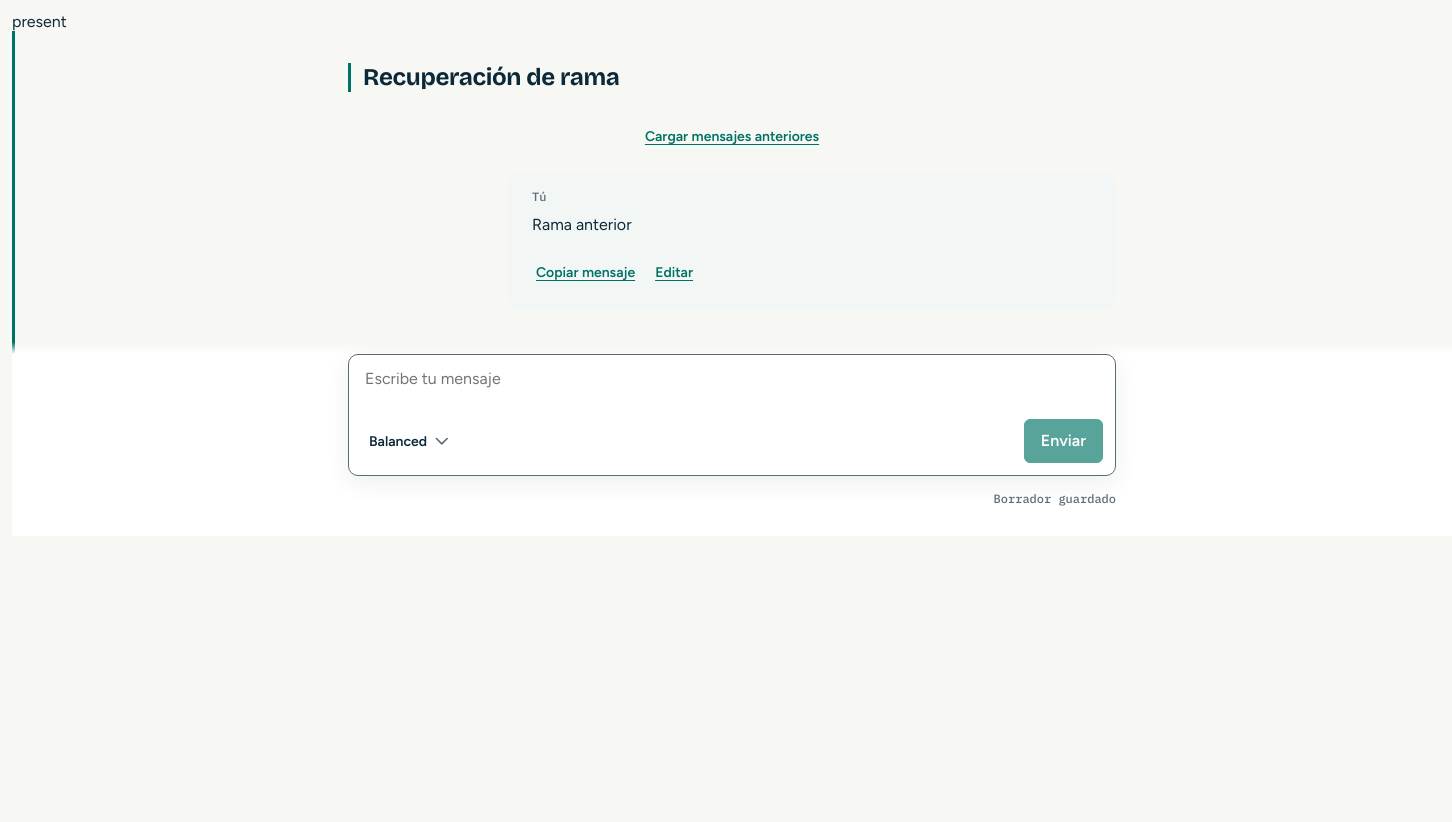
conversation page › repositions after same-size cursor recovery succeeds on Retry
The width and height of the screenshot is (1452, 822).
expect the text "Rama anterior" is shown: met, box [532,215,632,234]
expect the element with class "message-scroll" is shown: met, box [348,63,1116,310]
What coordinates should you click on to do the following:
click the button "Cargar mensajes anteriores"
I would click on:
 (732, 136)
Its box is [641,124,823,149].
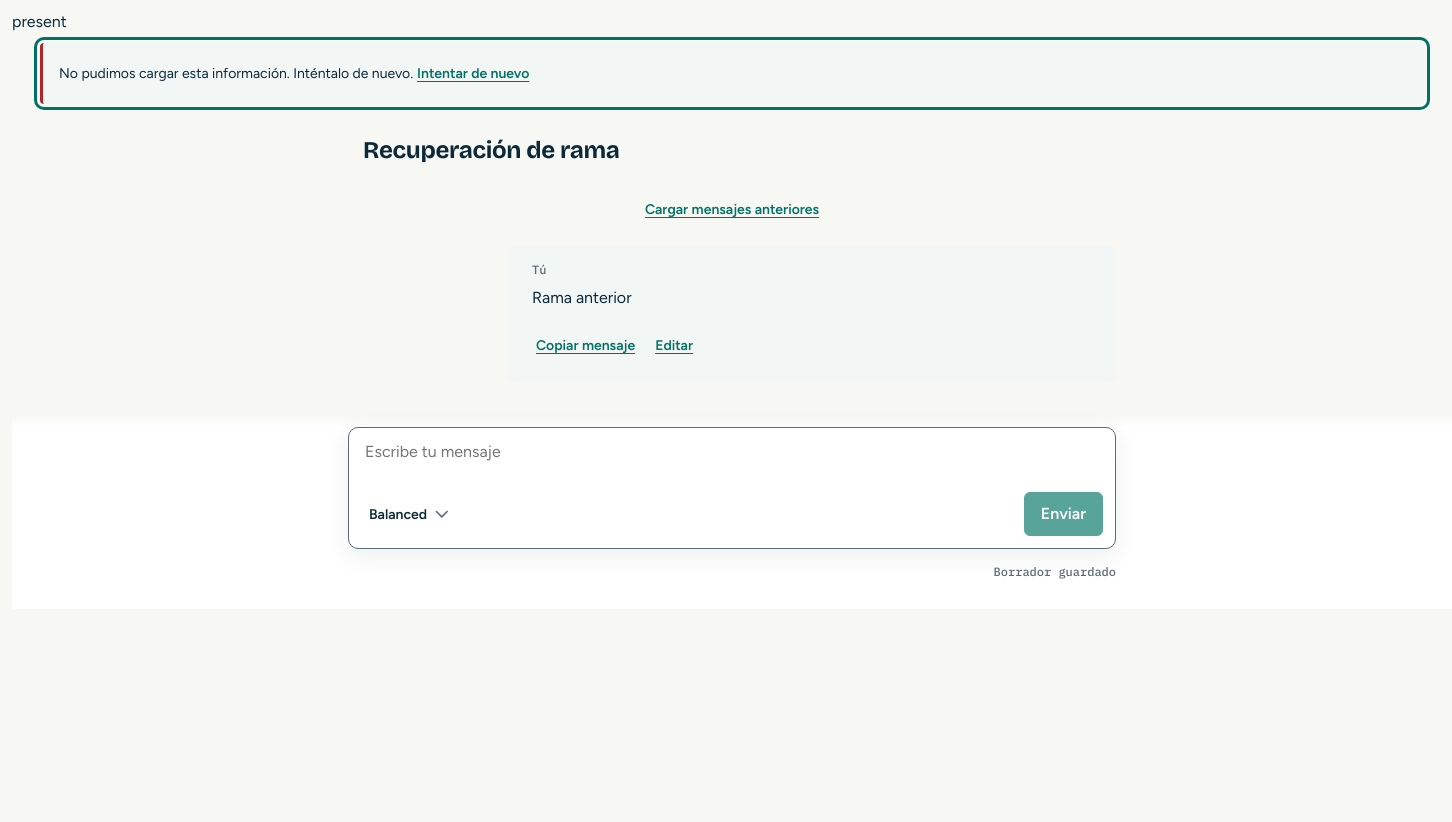
What coordinates should you click on to do the following:
click the button "Intentar de nuevo"
I would click on:
 (473, 74)
Its box is [413,59,533,88].
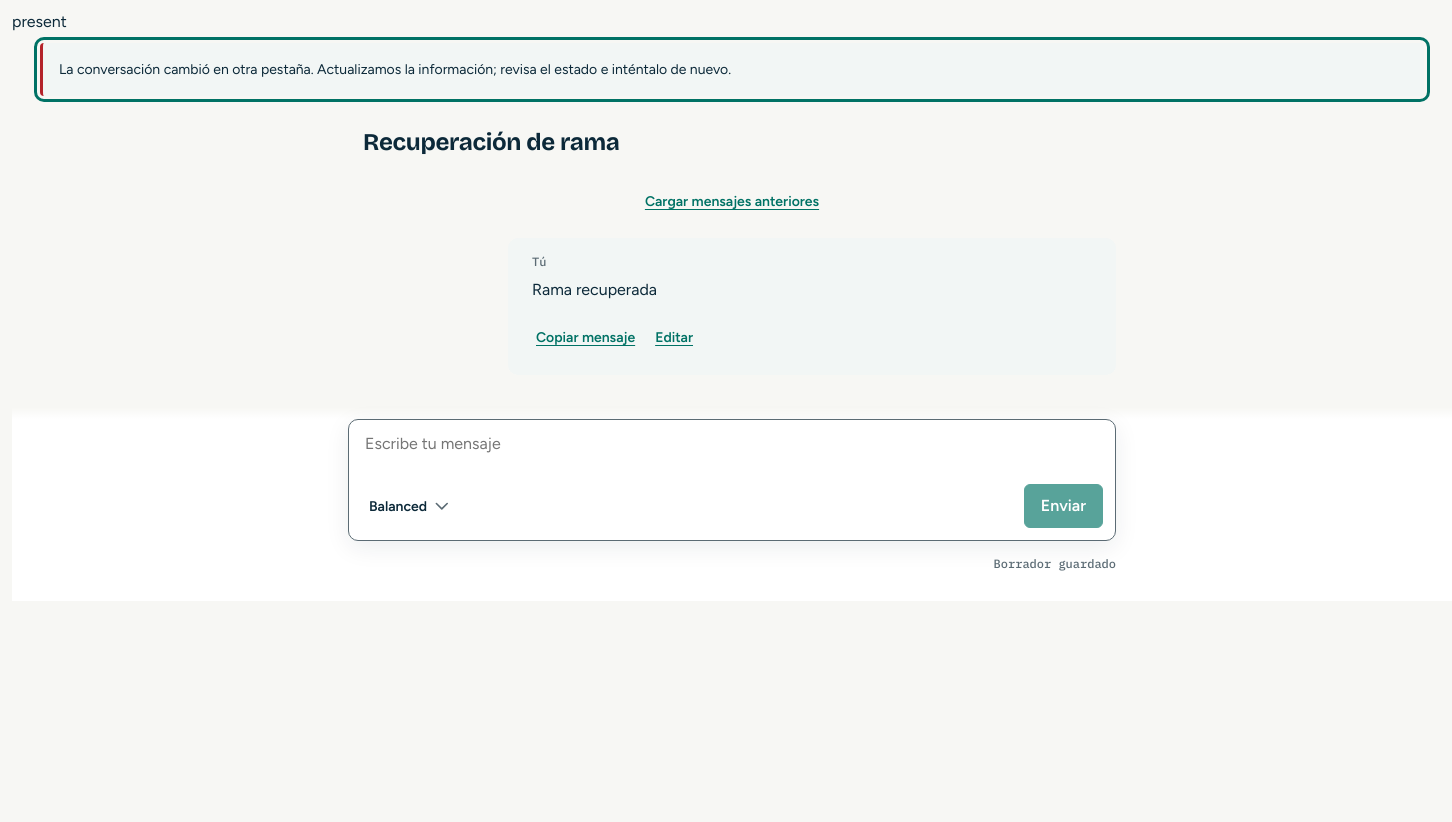
expect the text "Rama recuperada" is shown: met, box [532,280,657,299]
